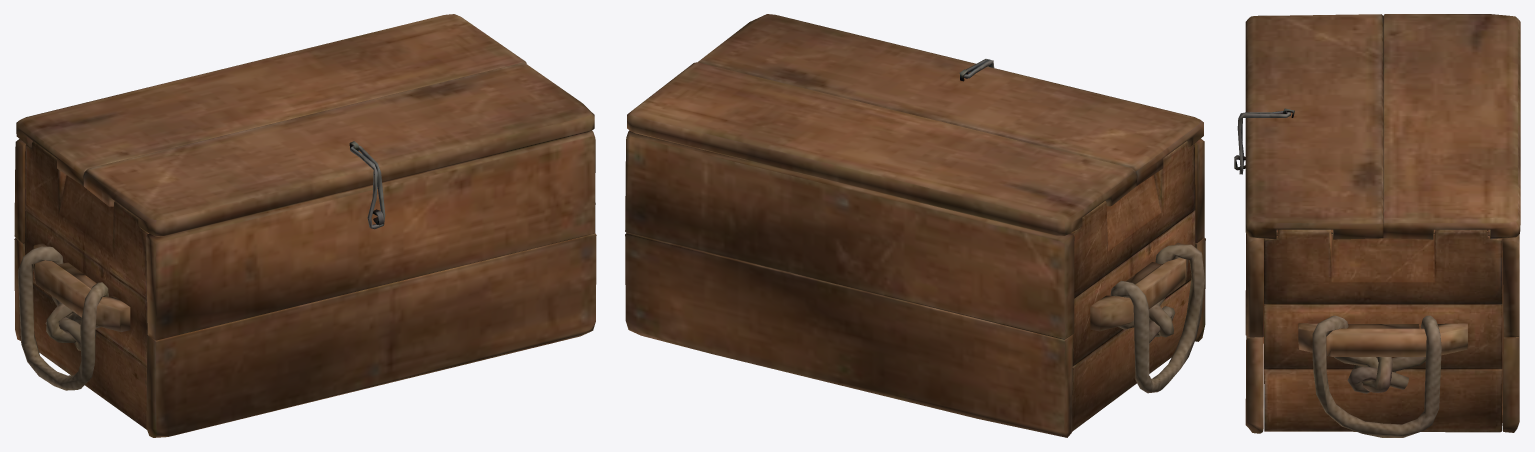
The model's file is wooden_crate_01.glb.
3 renders of one model, left to right at view 1: azimuth 30°, elevation 25°; view 2: azimuth 150°, elevation 25°; view 3: azimuth 270°, elevation 25°, orthographic. The views are drawn at different scales.
Visible parts, largest first — view 1: wooden_crate_01_lid; view 2: wooden_crate_01_lid; view 3: wooden_crate_01_lid.
Boxes of the visible parts, x1,y1,x2,y2 form: wooden_crate_01_lid: (14,14,596,437); wooden_crate_01_lid: (625,14,1205,437); wooden_crate_01_lid: (1234,14,1520,437).
Size of the model in its own units: 0.8245 by 0.3472 by 0.4069.
Materials: 1 (1 with a texture image).
